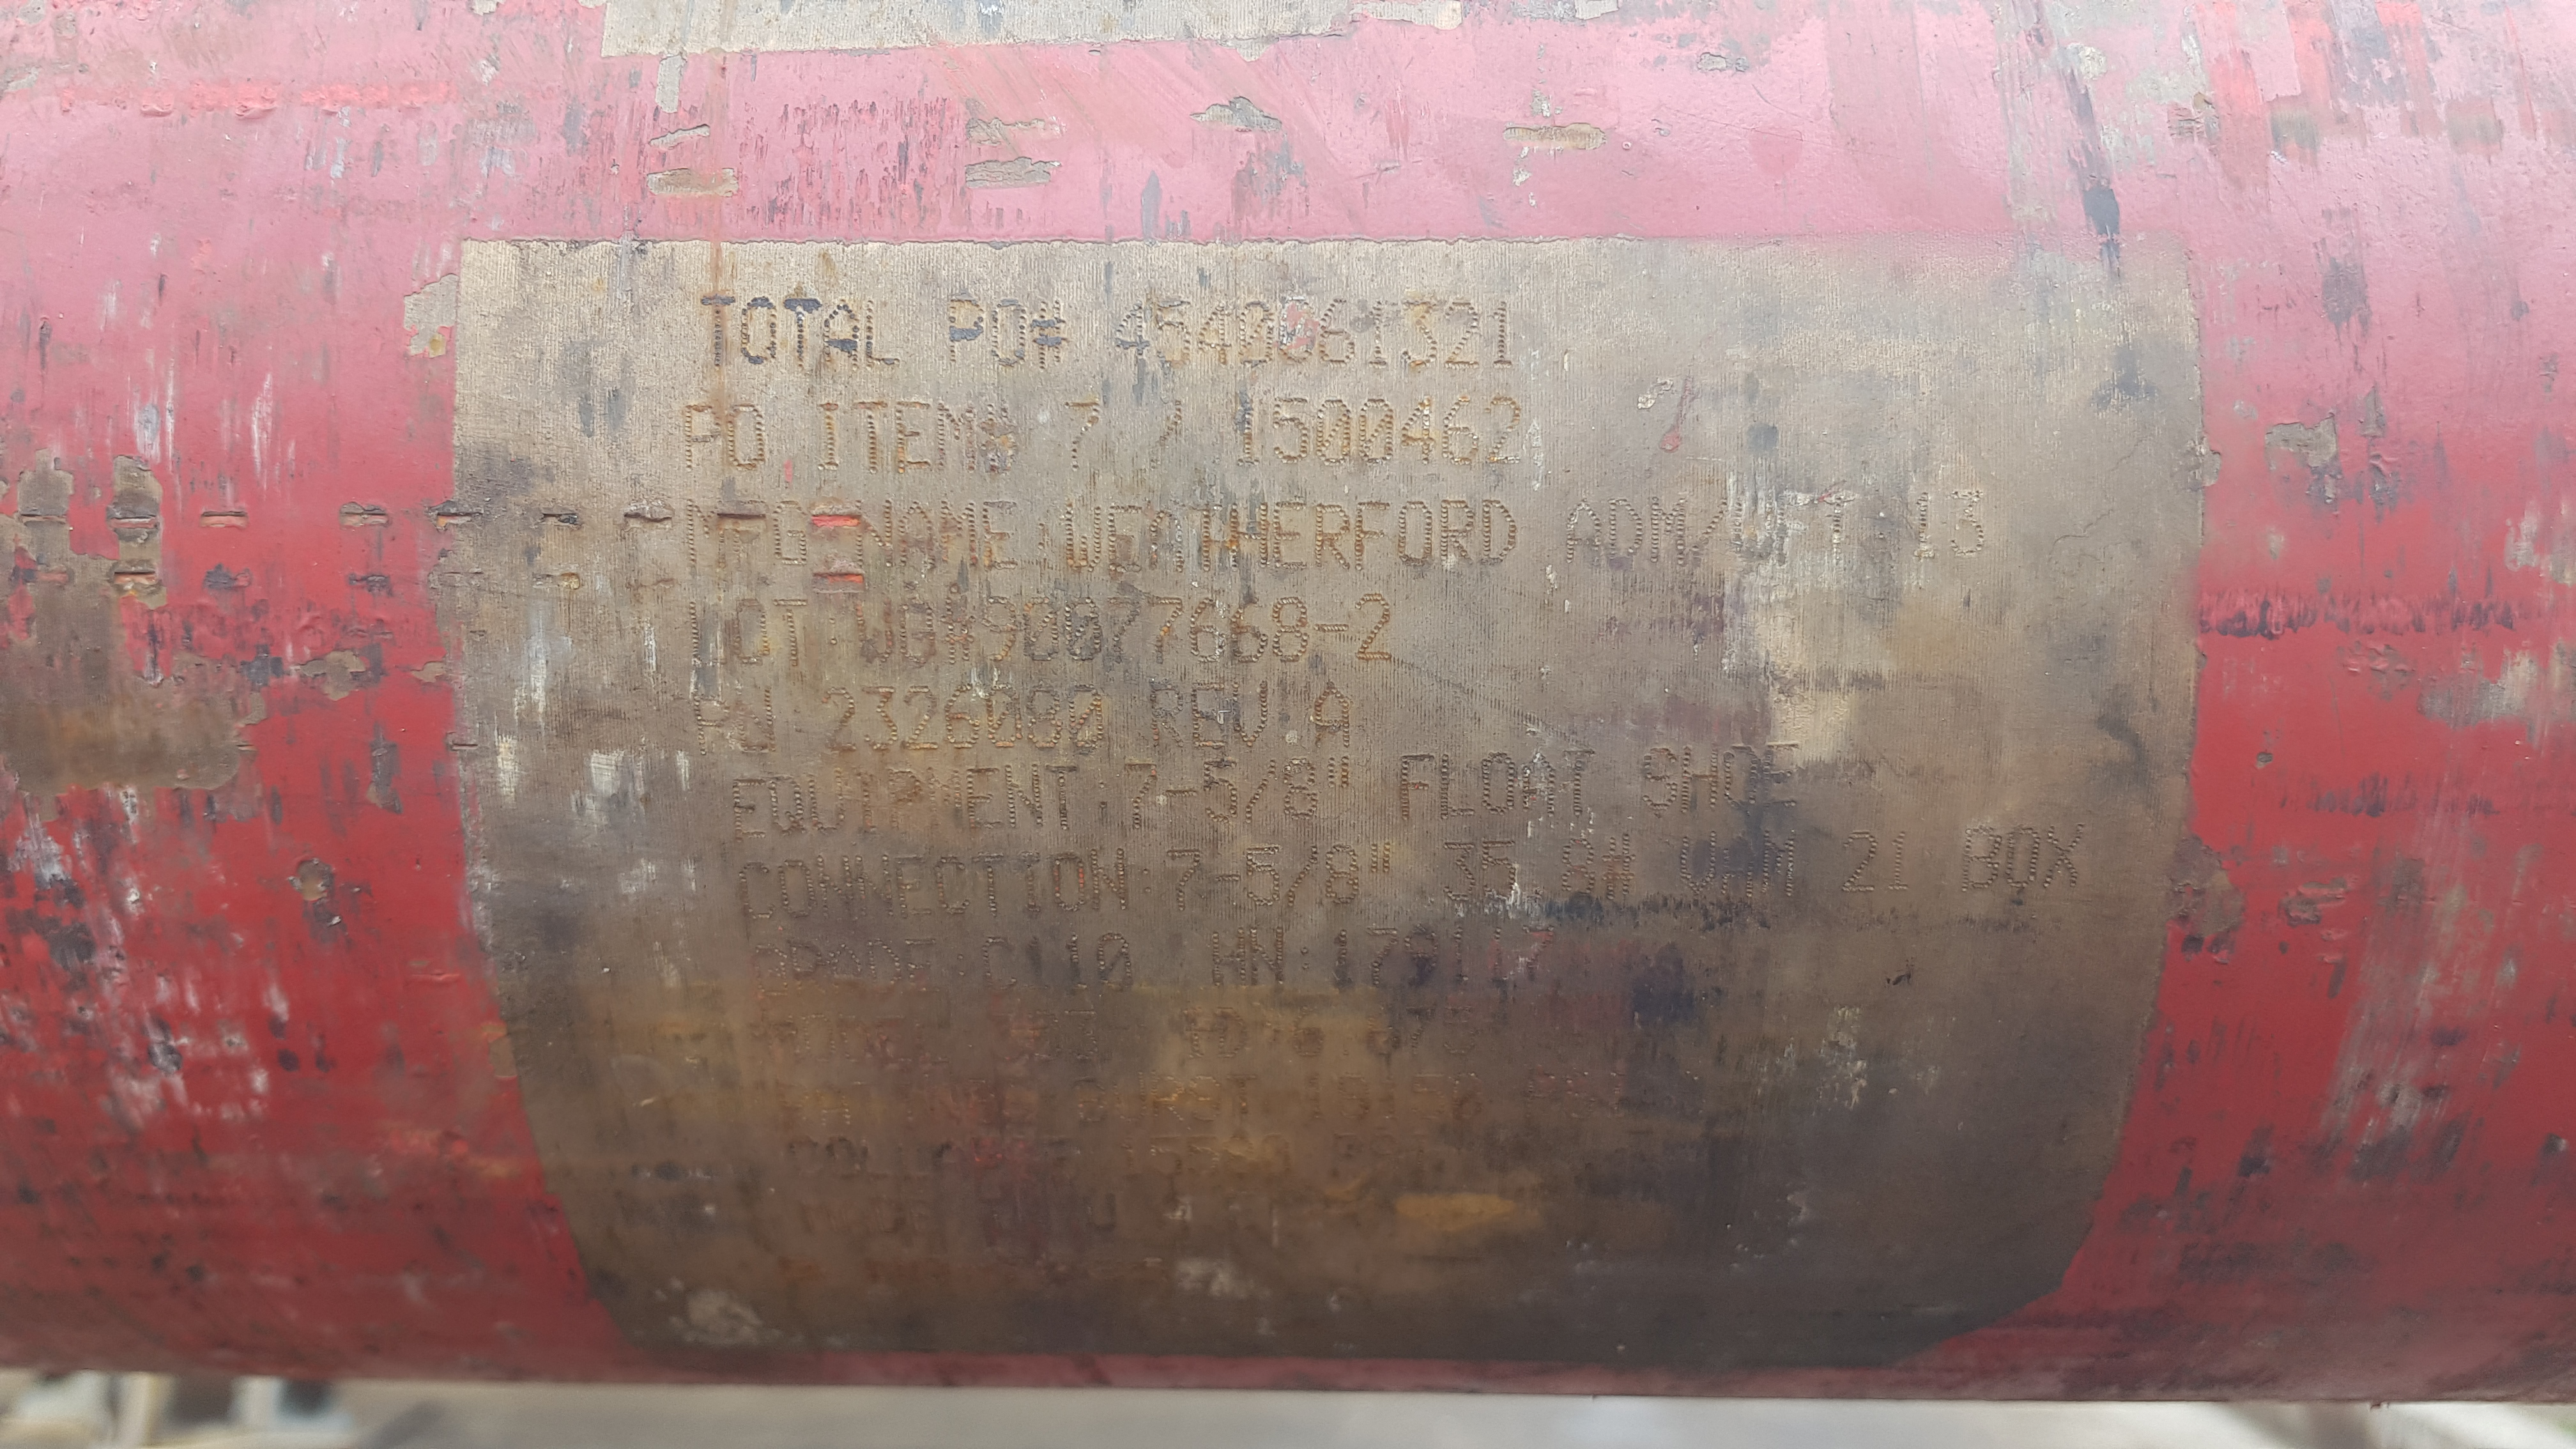character: (932, 395, 980, 476), (1309, 674, 1359, 750), (1113, 757, 1159, 839), (1060, 398, 1108, 476), (683, 495, 731, 573), (978, 495, 1026, 573), (817, 683, 865, 761), (724, 402, 771, 478), (1645, 494, 1690, 575), (1957, 819, 2001, 901), (851, 591, 897, 669), (1730, 494, 1776, 571), (1391, 752, 1437, 830), (1946, 488, 1994, 563), (2040, 817, 2088, 892), (1150, 396, 1194, 476), (1226, 495, 1270, 575), (770, 591, 814, 671), (1598, 830, 1642, 909), (1058, 499, 1104, 575), (1017, 591, 1063, 667), (1184, 591, 1230, 667), (1352, 591, 1398, 667), (847, 396, 890, 478), (1677, 738, 1720, 819), (1350, 499, 1394, 577), (978, 591, 1023, 669), (1267, 395, 1313, 469), (1267, 593, 1313, 667), (1185, 679, 1231, 754), (1672, 826, 1718, 901), (1819, 492, 1859, 575), (1309, 501, 1352, 580), (998, 761, 1046, 832), (1244, 924, 1292, 994), (1228, 591, 1272, 667), (1718, 740, 1762, 816), (895, 594, 941, 667), (1228, 679, 1274, 752), (1776, 494, 1817, 575), (1760, 826, 1801, 908), (890, 398, 932, 476), (1481, 391, 1523, 469), (893, 497, 936, 575), (685, 598, 727, 676), (731, 594, 773, 672), (736, 294, 780, 368), (681, 402, 725, 476), (1283, 1003, 1334, 1067), (1028, 299, 1074, 370), (1477, 495, 1518, 575), (936, 499, 978, 575), (858, 681, 901, 757), (1396, 297, 1440, 370), (1762, 738, 1806, 810), (734, 686, 780, 755), (805, 766, 851, 835), (697, 294, 738, 372), (936, 593, 977, 671), (901, 678, 941, 755), (1276, 294, 1318, 368), (1355, 395, 1398, 469), (814, 855, 856, 929), (1401, 922, 1444, 996), (853, 497, 897, 568), (853, 855, 897, 925), (1272, 495, 1311, 575), (987, 294, 1028, 370), (810, 398, 851, 474), (1104, 501, 1145, 577), (1394, 499, 1435, 575), (1063, 591, 1104, 667), (1145, 593, 1185, 669), (1690, 495, 1730, 571), (893, 851, 934, 927), (1477, 839, 1523, 906), (1152, 299, 1194, 372), (1143, 506, 1185, 579), (1562, 495, 1605, 568), (1559, 833, 1601, 906), (1840, 824, 1882, 897), (980, 681, 1024, 750), (1092, 927, 1136, 996), (1398, 389, 1437, 467), (1228, 396, 1269, 471), (1440, 391, 1481, 465), (1477, 747, 1518, 821), (780, 297, 823, 368), (1316, 297, 1359, 368), (1313, 396, 1355, 467), (1279, 757, 1322, 828), (961, 764, 1005, 832), (948, 294, 987, 370), (1438, 495, 1477, 571), (1442, 299, 1483, 372), (1102, 593, 1143, 665), (1605, 495, 1645, 568), (941, 681, 982, 754), (1145, 681, 1185, 754), (881, 764, 922, 837), (924, 764, 964, 837), (1638, 743, 1679, 816), (1361, 922, 1401, 994), (1233, 299, 1276, 368), (770, 499, 812, 568), (764, 773, 807, 842), (773, 858, 819, 922), (1240, 844, 1283, 913), (977, 932, 1019, 1001), (823, 295, 860, 373), (863, 297, 901, 375), (1042, 759, 1079, 837), (727, 773, 768, 844), (966, 851, 1007, 922), (1086, 844, 1127, 915), (1210, 924, 1251, 994), (1518, 920, 1559, 991), (688, 690, 731, 757), (2001, 824, 2043, 892), (1023, 683, 1063, 752), (1162, 847, 1203, 916), (1242, 755, 1279, 830), (1438, 752, 1477, 823), (736, 858, 777, 925), (1401, 1000, 1442, 1067), (1323, 842, 1366, 906), (1067, 681, 1104, 754), (1201, 757, 1240, 826), (1520, 748, 1559, 817), (789, 936, 828, 1005), (1049, 849, 1090, 915), (1362, 998, 1403, 1063), (1196, 299, 1233, 370), (1559, 747, 1596, 817), (932, 853, 971, 920), (1283, 842, 1322, 909), (750, 939, 791, 1003), (1062, 1005, 1106, 1063), (828, 936, 865, 1005), (1359, 295, 1392, 372), (982, 400, 1016, 474), (870, 1012, 911, 1072), (1440, 839, 1477, 904), (1111, 299, 1150, 361), (1720, 842, 1759, 904), (985, 1008, 1028, 1065), (1069, 1072, 1111, 1129), (1442, 924, 1476, 994), (1484, 299, 1516, 373), (1014, 847, 1046, 922), (865, 936, 902, 1000), (759, 1012, 803, 1065), (1913, 487, 1943, 563), (1214, 1005, 1253, 1063), (1109, 1069, 1148, 1127), (851, 770, 881, 844), (835, 1012, 872, 1072), (902, 936, 938, 998), (1327, 925, 1357, 998), (1145, 1131, 1187, 1182), (1444, 1000, 1481, 1058), (1058, 931, 1092, 994), (1150, 1069, 1185, 1129), (1191, 499, 1217, 577), (913, 1017, 950, 1072), (1019, 932, 1051, 996), (1177, 1001, 1208, 1065), (1187, 1069, 1224, 1122), (801, 1012, 837, 1067), (800, 1010, 835, 1065), (1184, 1131, 1221, 1182), (1260, 1131, 1297, 1182), (1030, 1008, 1063, 1065), (1484, 920, 1513, 985), (1224, 1069, 1261, 1118), (1886, 826, 1913, 893), (1223, 1132, 1258, 1180), (1116, 1134, 1145, 1182), (1325, 752, 1352, 798), (1369, 839, 1394, 879), (1161, 784, 1203, 805), (1311, 617, 1350, 635), (1139, 863, 1159, 897), (1210, 869, 1242, 888), (957, 1026, 978, 1053), (1295, 943, 1313, 973), (954, 950, 968, 984)
